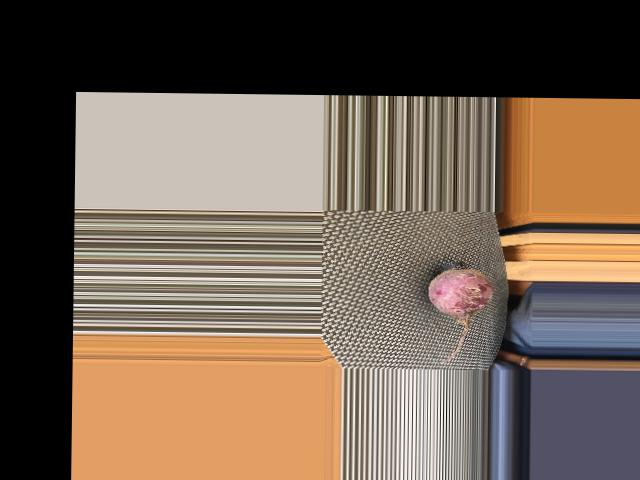beet: (428, 259, 494, 362)
